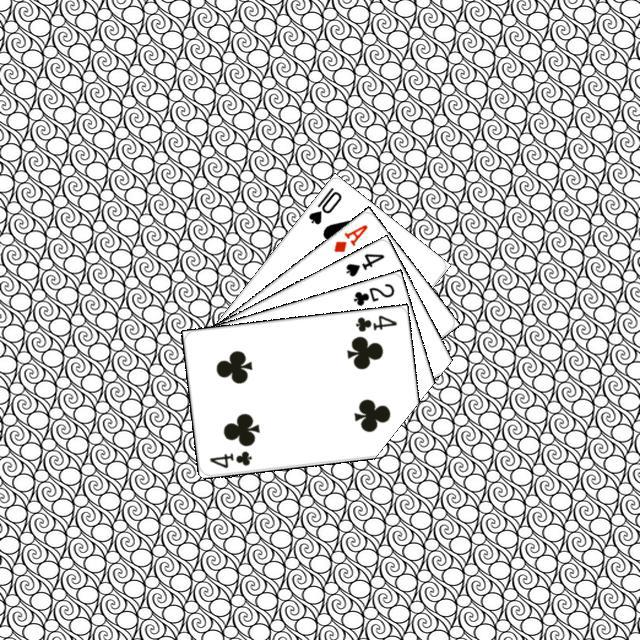10s: (303, 182, 343, 226)
2c: (348, 278, 396, 308)
4c: (204, 446, 253, 470), (350, 310, 398, 333)
4s: (341, 248, 386, 279)
Ad: (329, 219, 370, 254)
